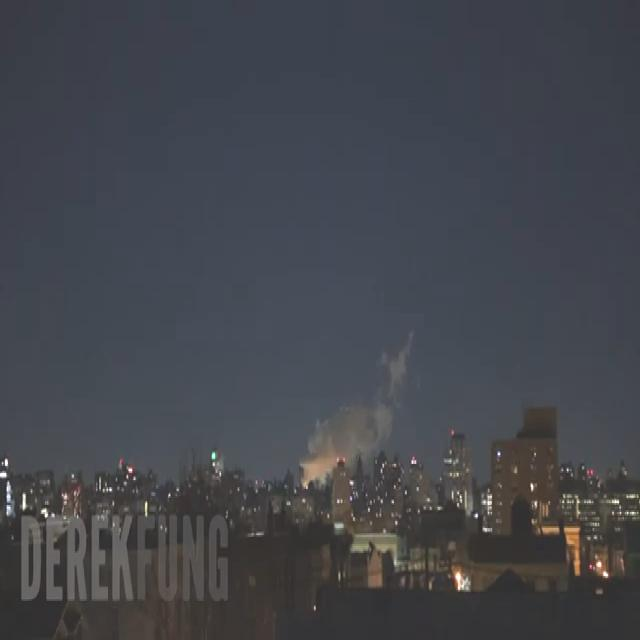smoke: (300, 332, 413, 480)
